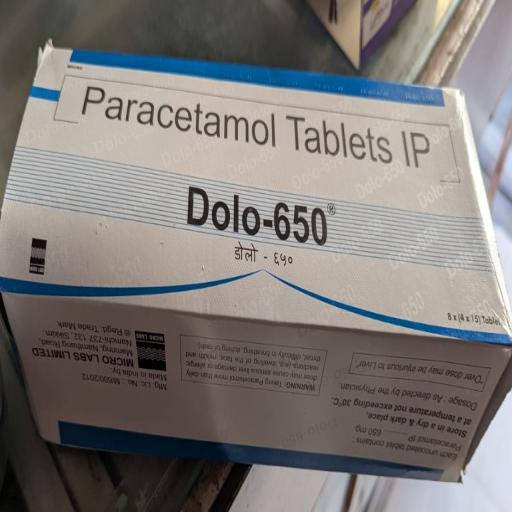dolo-650: (10, 33, 506, 491)
